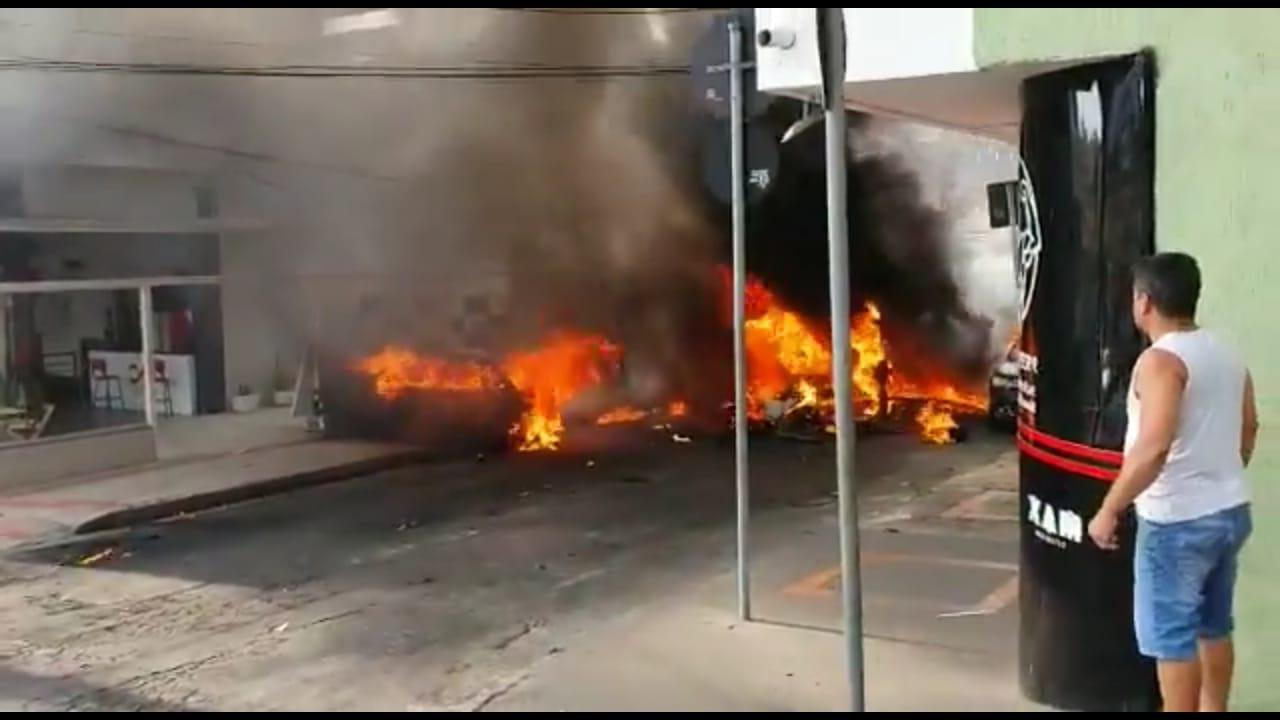Fire: (739, 283, 975, 464), (365, 328, 666, 451)
